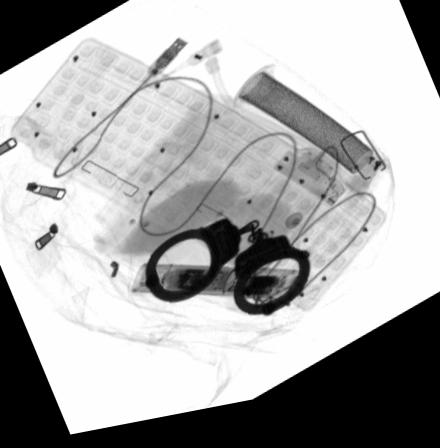Baton: (129, 267, 307, 312)
HandCuffs: (140, 223, 313, 325)
